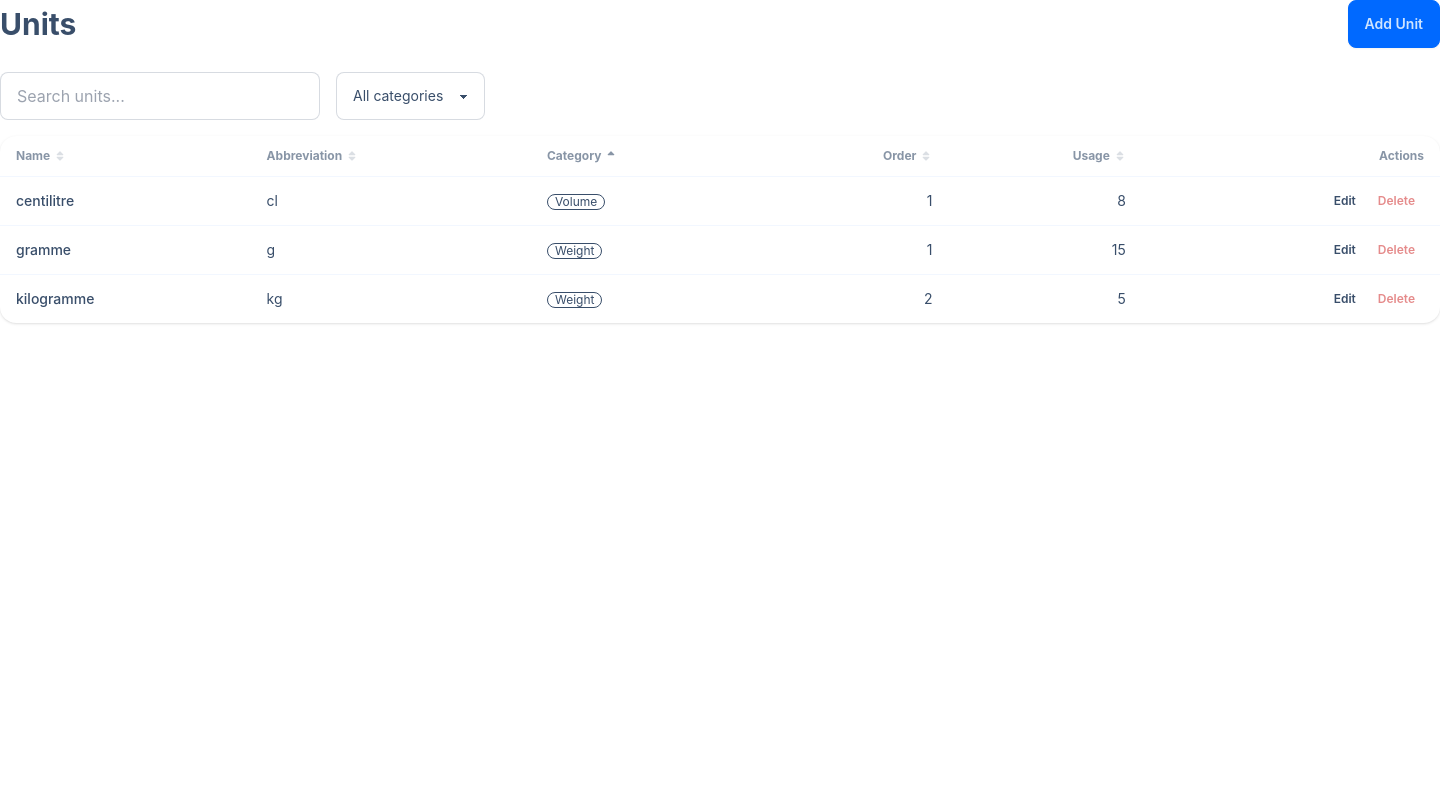
AdminUnitsPage › should create a new unit
The image size is (1440, 810).
Click the button "Add Unit". click: [1394, 24]
box: [1348,0,1439,48]
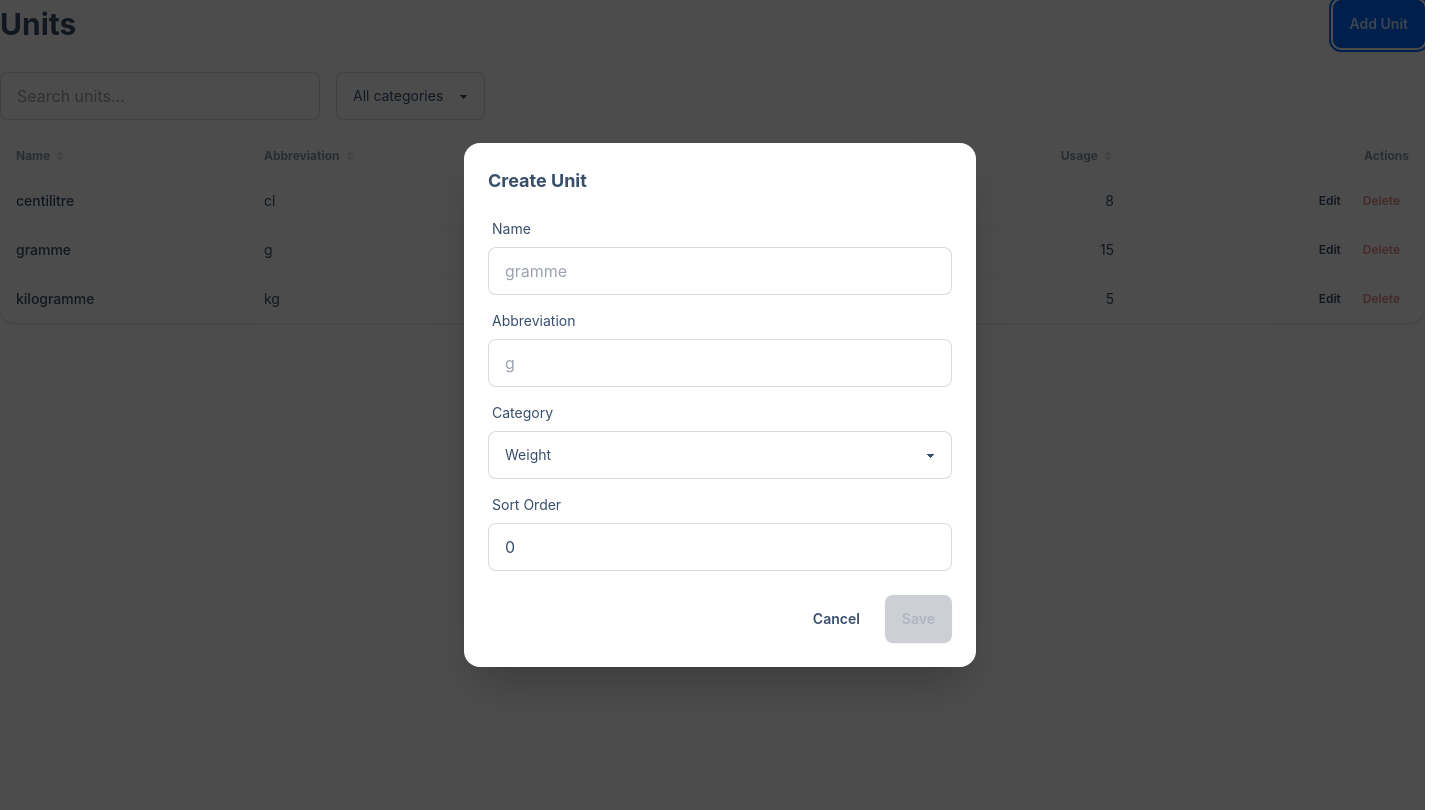
Type "litre" into the field with placeholder "gramme". click: [720, 271]
box: [488,247,952,295]
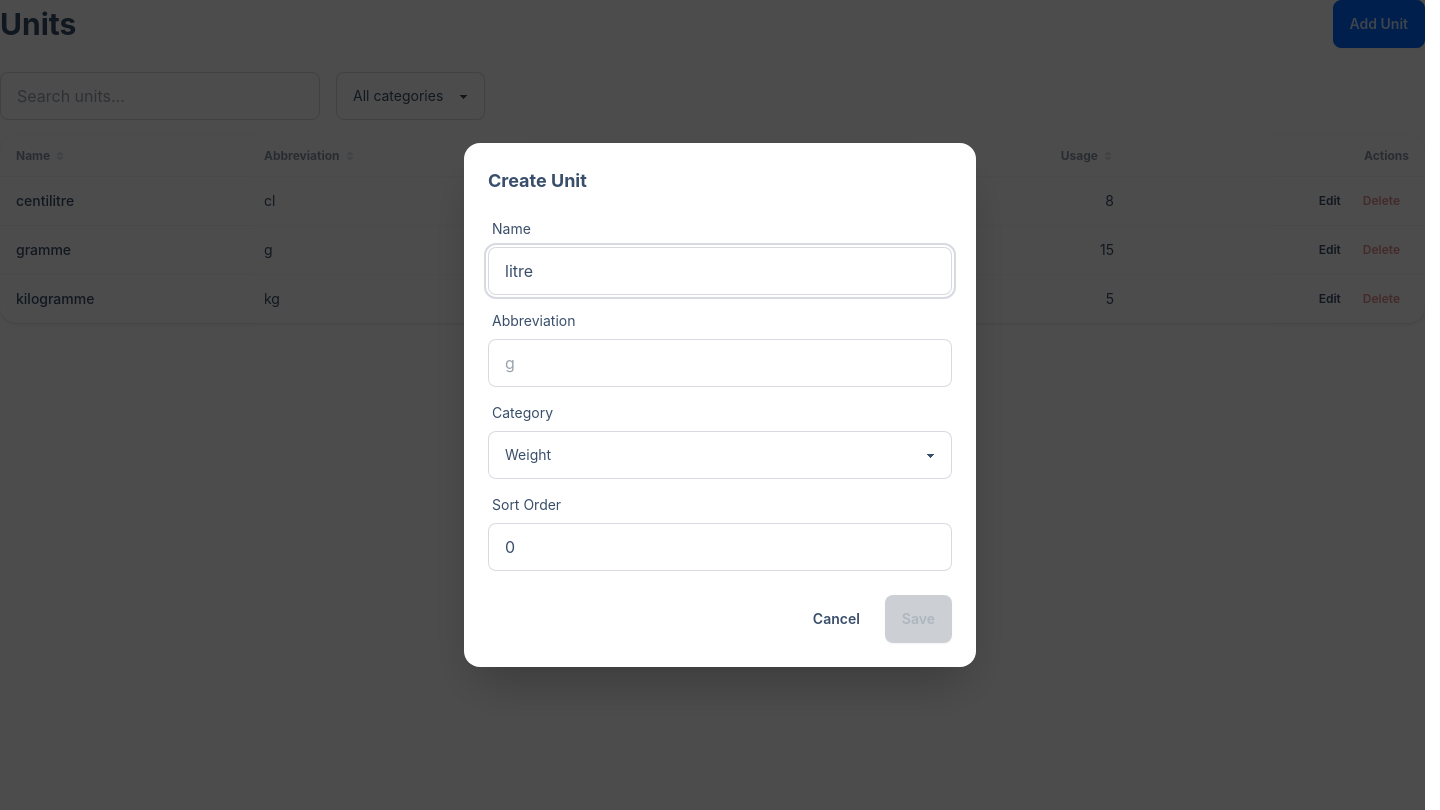
Type "L" into the field with placeholder "g". click: [720, 363]
box: [488,339,952,387]
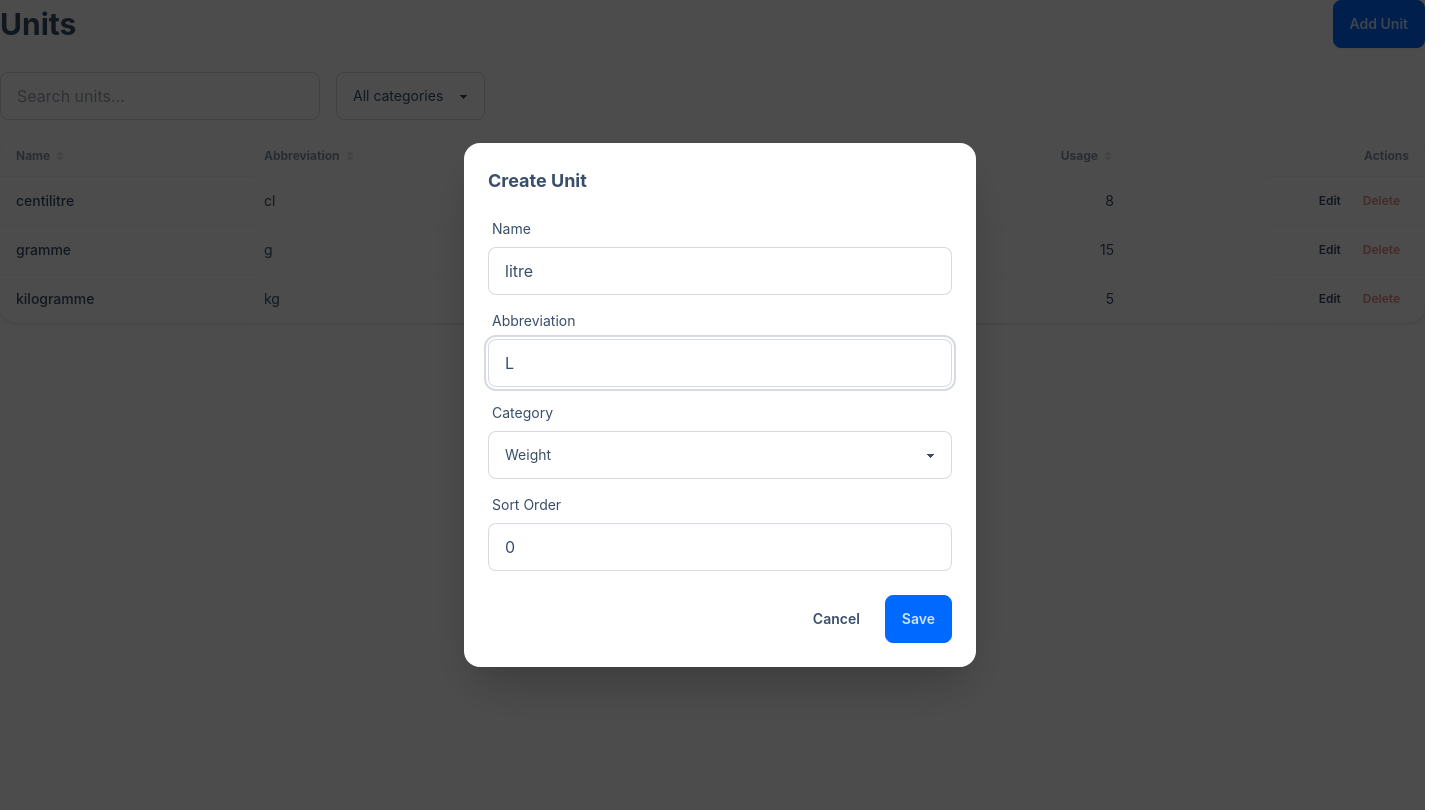
Click the button "Save". click: [918, 619]
box: [885,595,952,643]
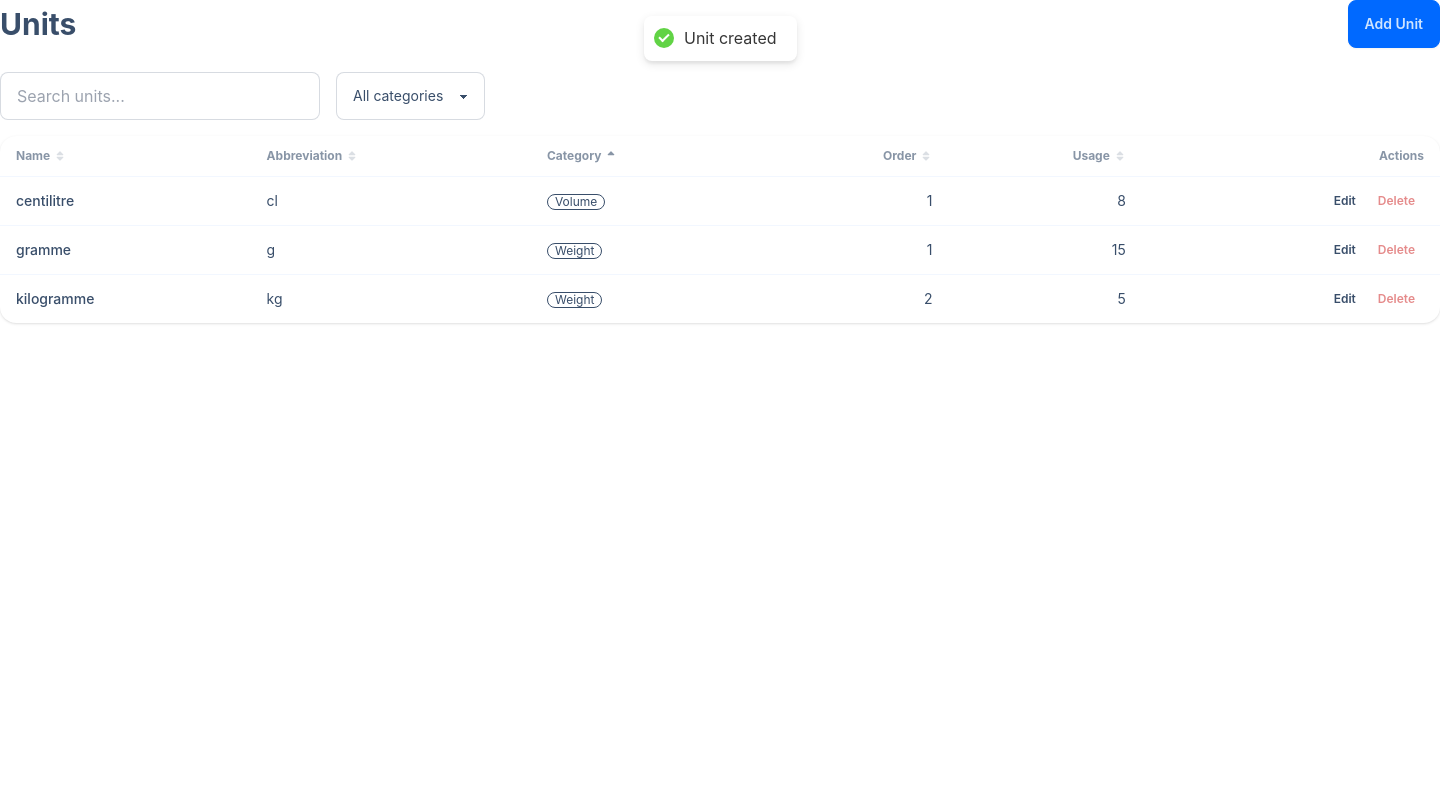
expect the text "Unit created" is shown: met, box [684,28,776,49]
